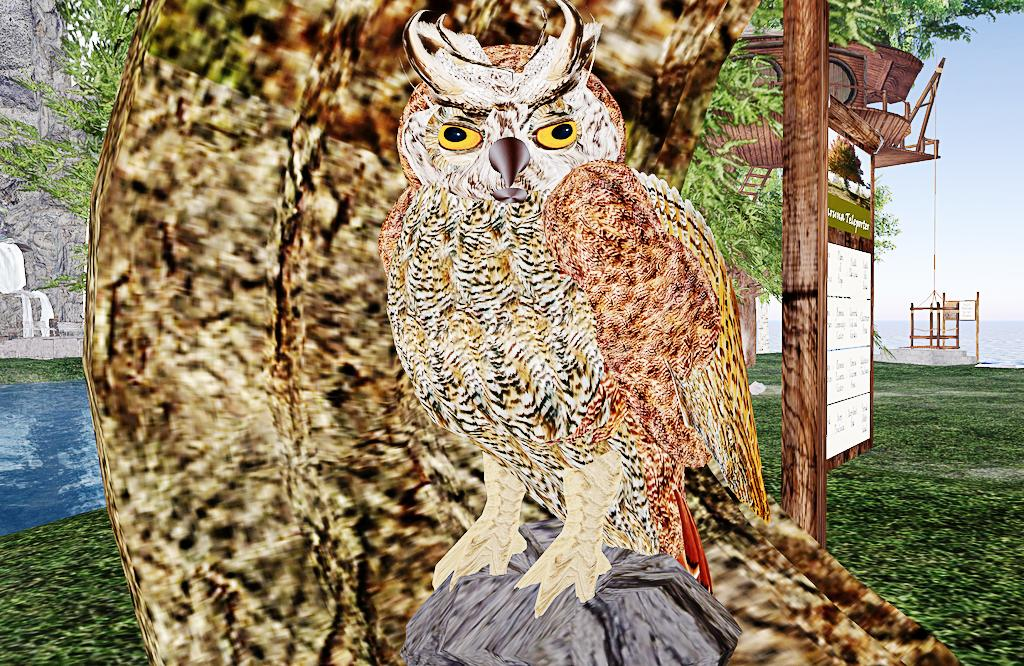Owl: (376, 0, 774, 621)
